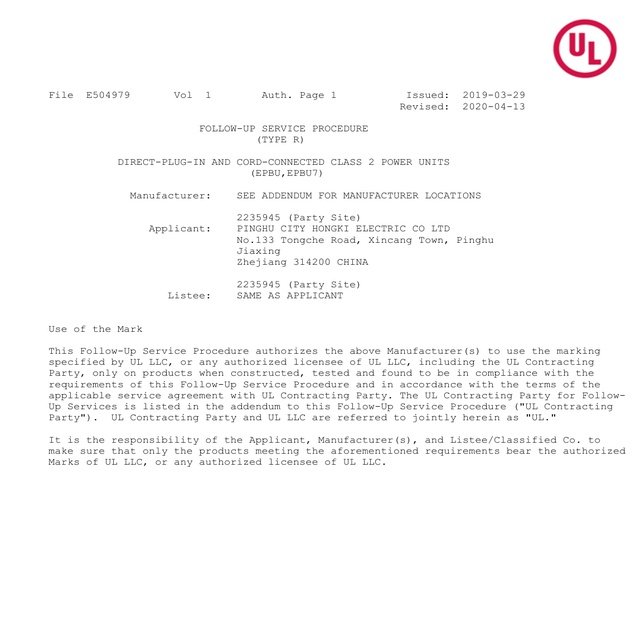ul: (552, 18, 617, 81)
